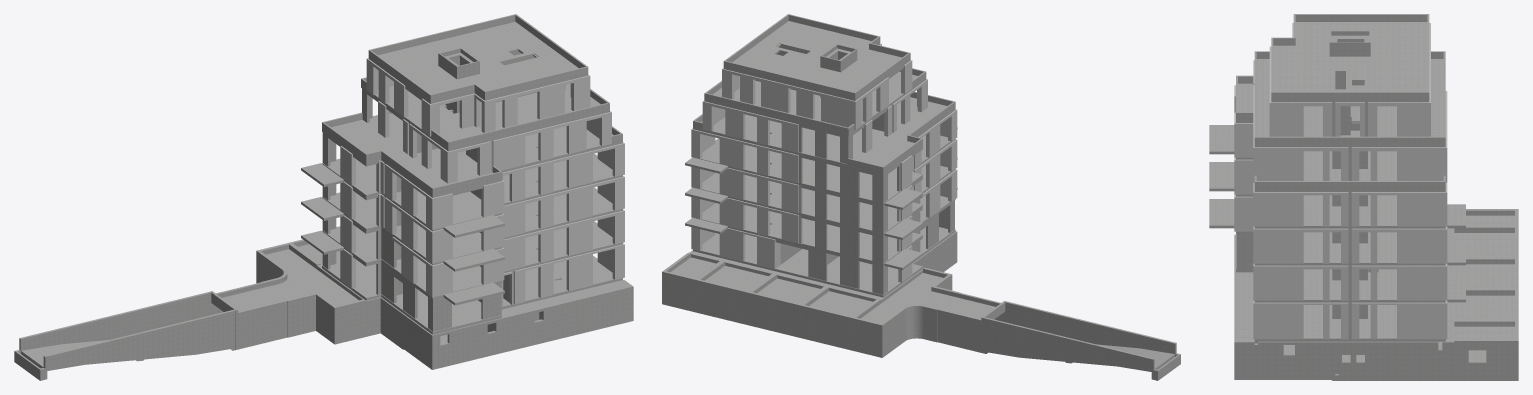
The model's file is ZGRADA BERLIN.dae.
3 renders of one model, left to right at view 1: azimuth 30°, elevation 25°; view 2: azimuth 150°, elevation 25°; view 3: azimuth 270°, elevation 25°, orthographic. The views are drawn at different scales.
Visible parts, largest first — view 1: Wand (×38), Decke (×19), 3D_Element (×2); view 2: Wand (×32), Decke (×14), 3D_Element (×2), Unterzug; view 3: Wand (×34), Decke (×21), Unterzug (×5).
Part boxes in pixels (<box>): Wand (×38): <box>19,14,633,368</box>; Decke (×19): <box>211,21,633,369</box>; 3D_Element (×2): <box>15,340,235,380</box>; Wand (×32): <box>662,14,1176,369</box>; Decke (×14): <box>662,21,1005,357</box>; 3D_Element (×2): <box>983,344,1179,380</box>; Unterzug: <box>689,250,880,301</box>; Wand (×34): <box>1234,14,1518,375</box>; Decke (×21): <box>1209,22,1518,380</box>; Unterzug (×5): <box>1442,225,1514,350</box>.
Bounding box in the file's own units: 52.45 × 24.59 × 25.3.
Materials: 3 (2 with a texture image).
